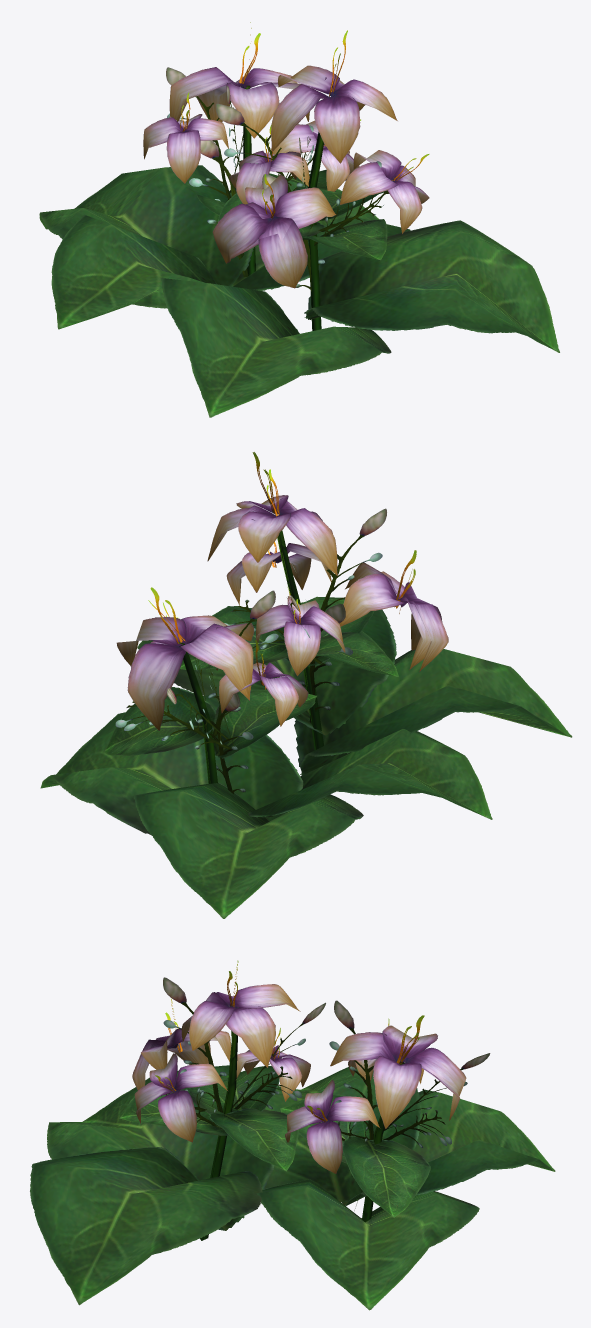
The model's file is grass_04.fbx.
3 renders of one model, top to bottom at view 1: azimuth 30°, elevation 25°; view 2: azimuth 150°, elevation 25°; view 3: azimuth 270°, elevation 25°, orthographic. The views are drawn at different scales.
Parts seen in each view (by area): view 1: 510灌木_花灌木_05; view 2: 510灌木_花灌木_05; view 3: 510灌木_花灌木_05.
Part boxes in pixels (x1=…): 510灌木_花灌木_05: x1=39, y1=22, x2=559, y2=417; 510灌木_花灌木_05: x1=40, y1=452, x2=572, y2=918; 510灌木_花灌木_05: x1=30, y1=960, x2=555, y2=1310.
Size of the model in its own units: 150 by 109 by 175.
